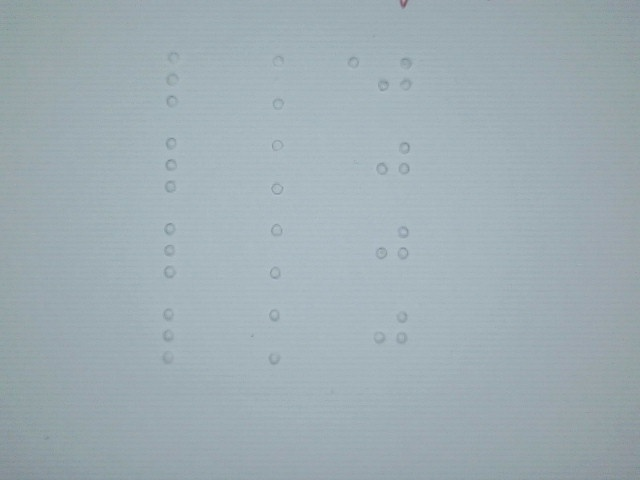J: (374, 133, 411, 192), (374, 217, 411, 276), (372, 302, 409, 361)
K: (264, 137, 301, 196), (263, 222, 300, 281), (261, 307, 298, 366)
L: (158, 135, 195, 194), (156, 221, 193, 280), (156, 306, 193, 365)
